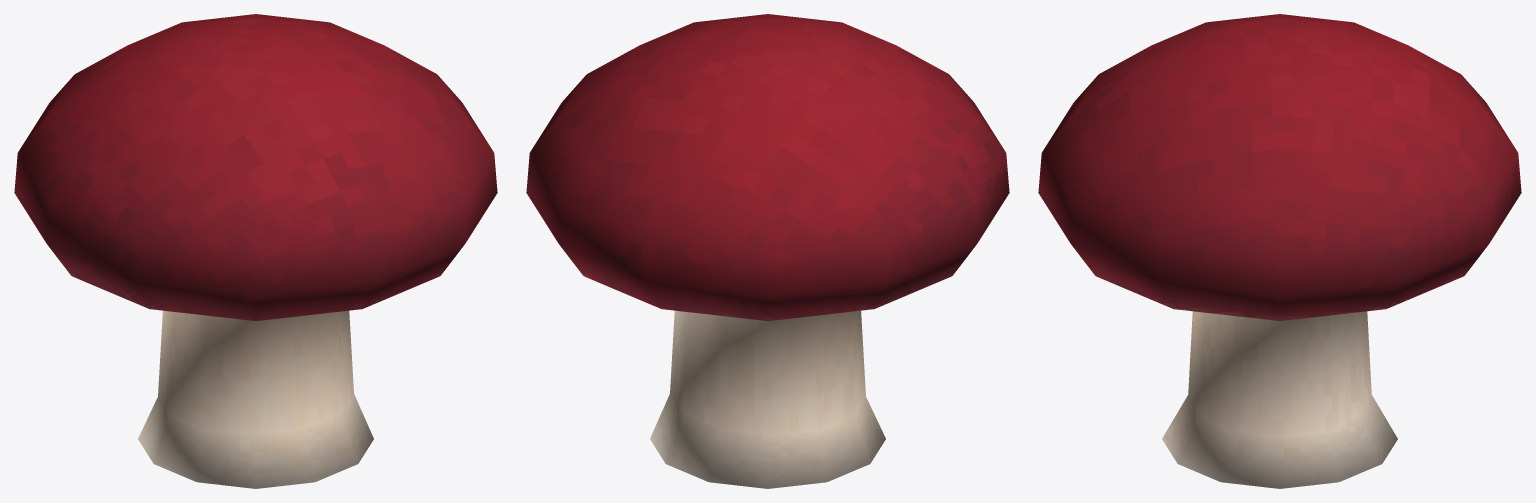
File: Mushroom_Dark_Red.fbx
3 renders of one model, left to right at view 1: azimuth 30°, elevation 25°; view 2: azimuth 150°, elevation 25°; view 3: azimuth 270°, elevation 25°, orthographic.
Parts seen in each view (by area): view 1: Sphere.018; view 2: Sphere.018; view 3: Sphere.018.
Part boxes in pixels (x1=…): Sphere.018: x1=14, y1=14, x2=497, y2=488; Sphere.018: x1=526, y1=14, x2=1009, y2=488; Sphere.018: x1=1038, y1=14, x2=1521, y2=488.
Bounding box in the file's own units: 22.75 × 22.05 × 22.75.
Materials: 2 (2 with a texture image).
